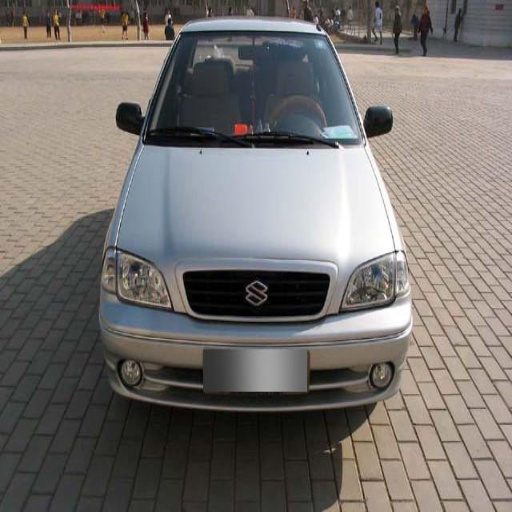front_bumper: (100, 272, 412, 413)
front_right_light: (101, 245, 170, 310)
hood: (119, 143, 395, 318)
